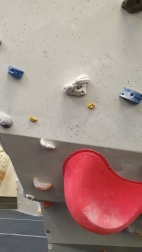Jug: (65, 74, 91, 98), (32, 176, 52, 193), (39, 137, 57, 152)
Pinch: (118, 85, 141, 104), (7, 64, 25, 80)
